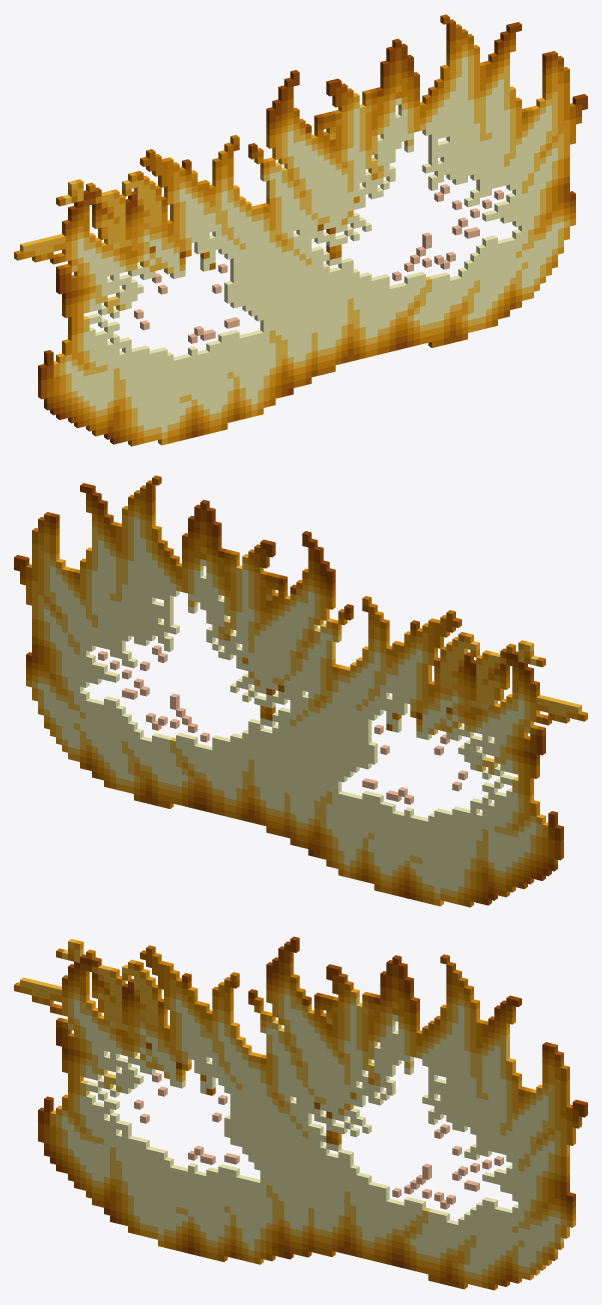
The model's file is Fight_756_2_09_fx.obj.
3 views of the same model, one above another, from view 1: azimuth 30°, elevation 25°; view 2: azimuth 150°, elevation 25°; view 3: azimuth 330°, elevation 25° (orthographic).
Size of the model in its own units: 9.5 by 5.7 by 0.1.
